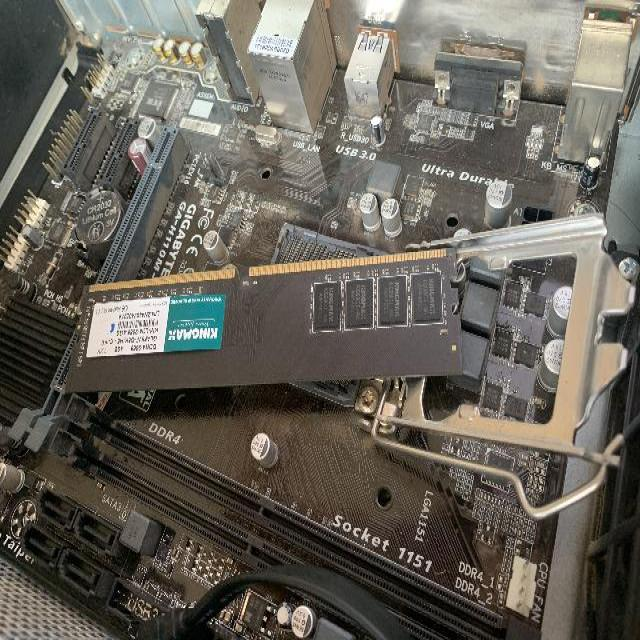Mainboard: (1, 1, 640, 639)
RAM: (64, 245, 464, 394)
